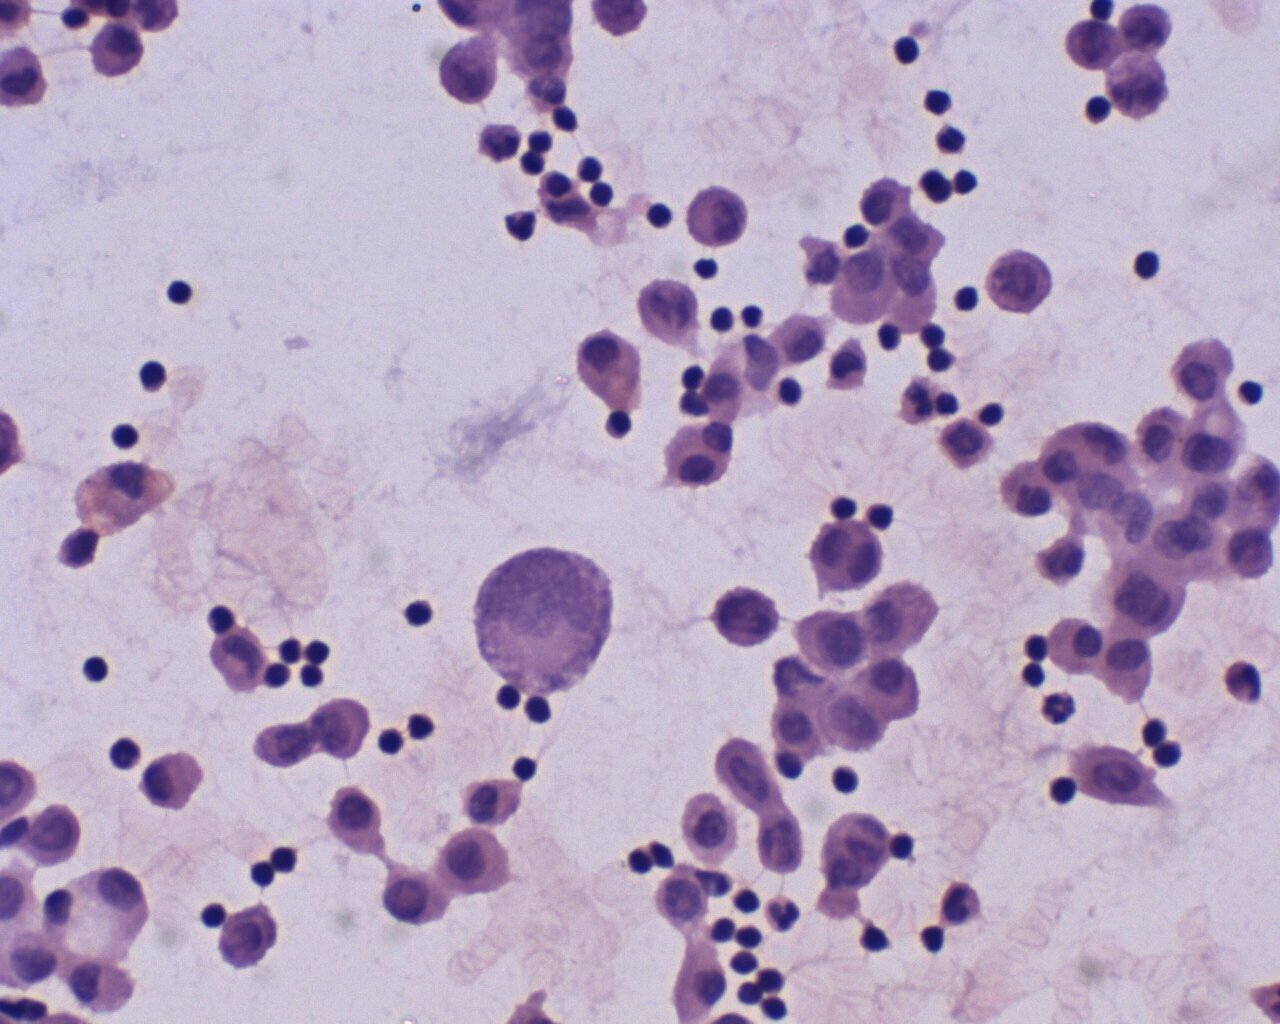ab: (470, 546, 613, 694), (984, 245, 1058, 318), (789, 601, 869, 666), (709, 583, 778, 648), (24, 797, 85, 868)
lymph: (75, 648, 115, 686), (1127, 247, 1166, 284), (886, 32, 925, 70), (1080, 90, 1117, 127), (915, 87, 954, 121), (639, 199, 676, 234), (951, 280, 985, 317), (104, 420, 140, 455), (861, 501, 900, 532), (402, 595, 435, 629), (196, 899, 231, 930), (1047, 772, 1076, 807), (1238, 377, 1267, 409), (140, 358, 166, 393), (164, 277, 194, 305)
meso: (573, 330, 646, 414), (1102, 616, 1163, 707), (437, 828, 514, 899), (323, 786, 391, 859), (682, 784, 738, 871), (1045, 607, 1103, 678)
neutro: (1037, 688, 1076, 725)
